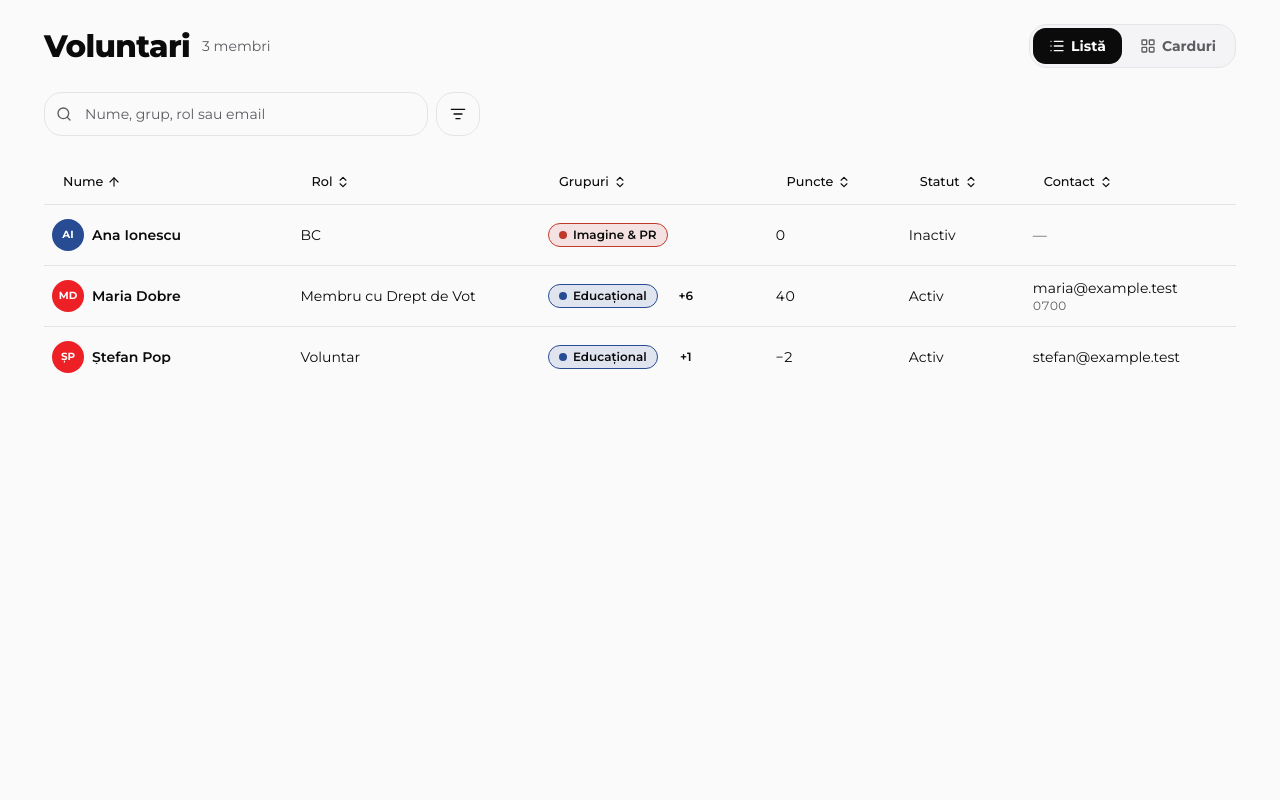
Member directory › filters by status and says so when nothing matches
Click the button named "Filtrează" at (458, 114), box x1=436 y1=92 x2=480 y2=136
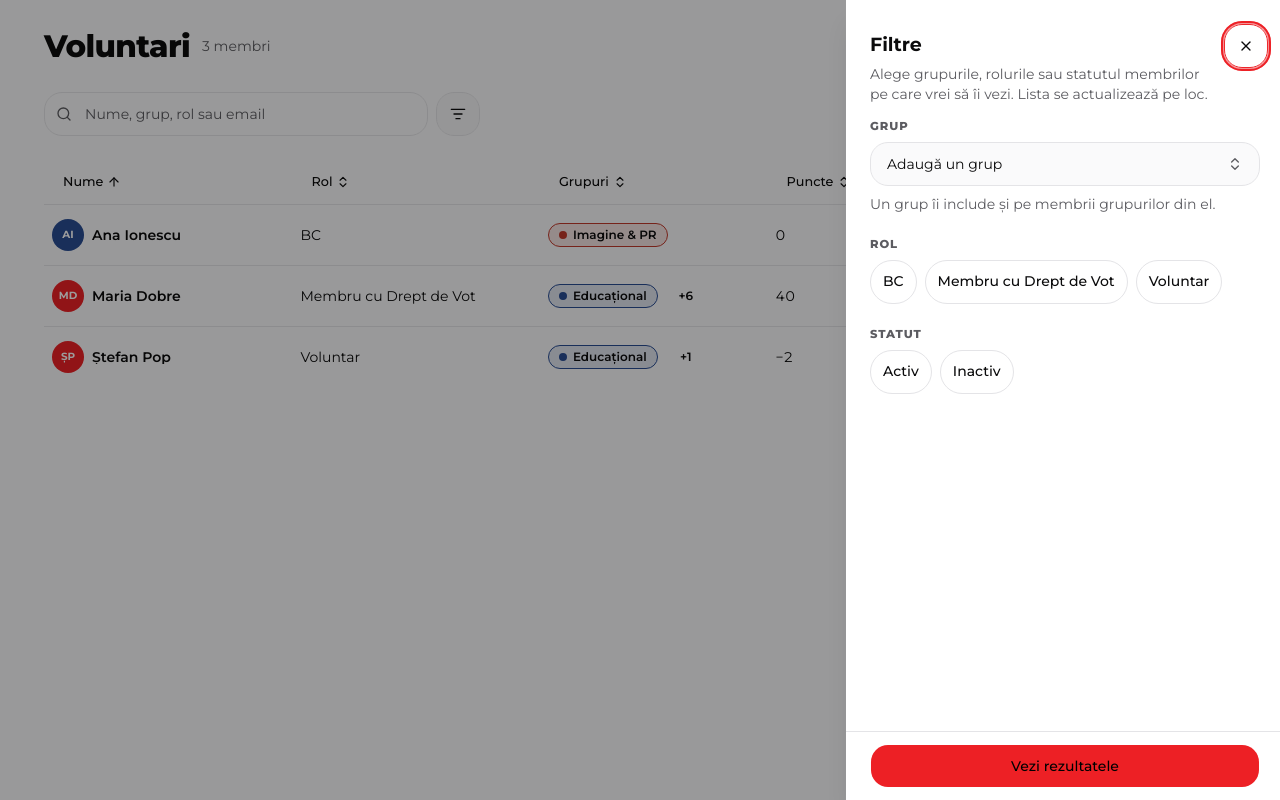
Click the button "Inactiv" at (963, 372), box x1=926 y1=350 x2=1000 y2=394
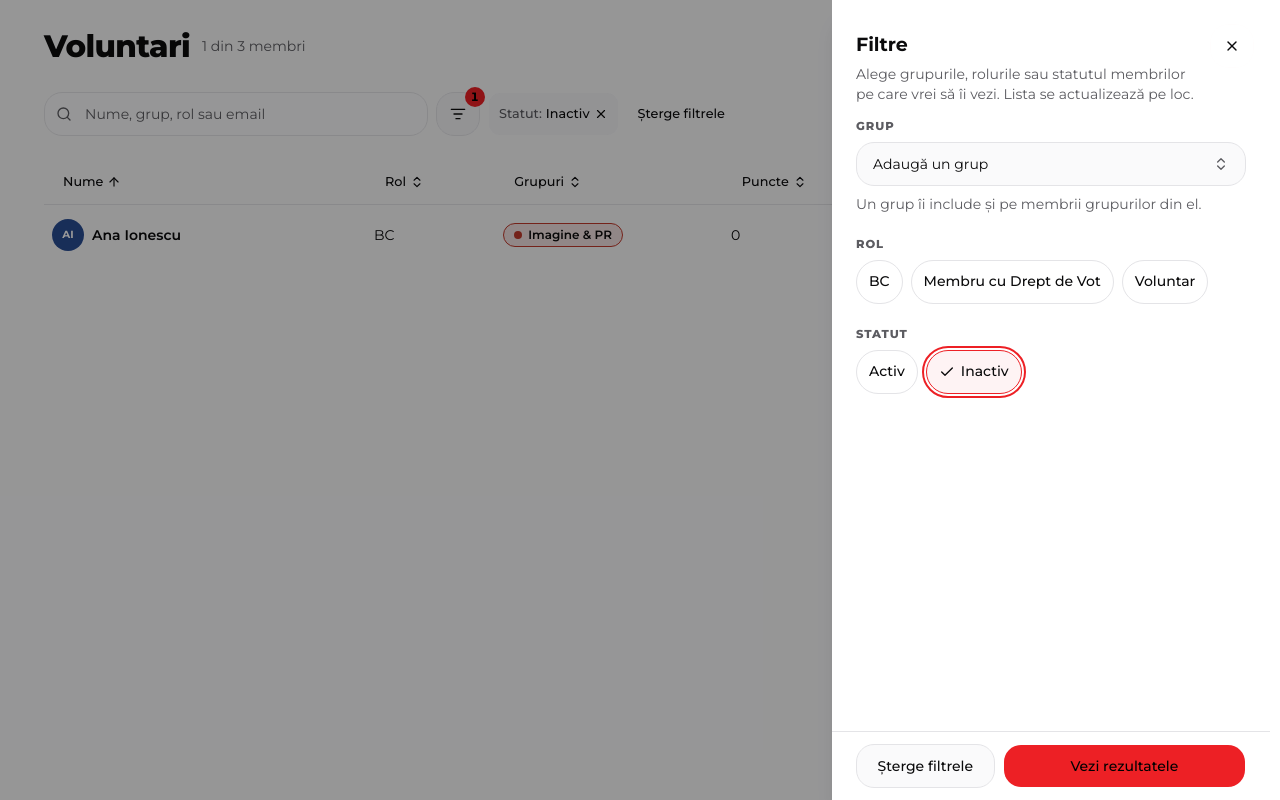
Click the button "Voluntar" at (1165, 282), box x1=1122 y1=260 x2=1208 y2=304
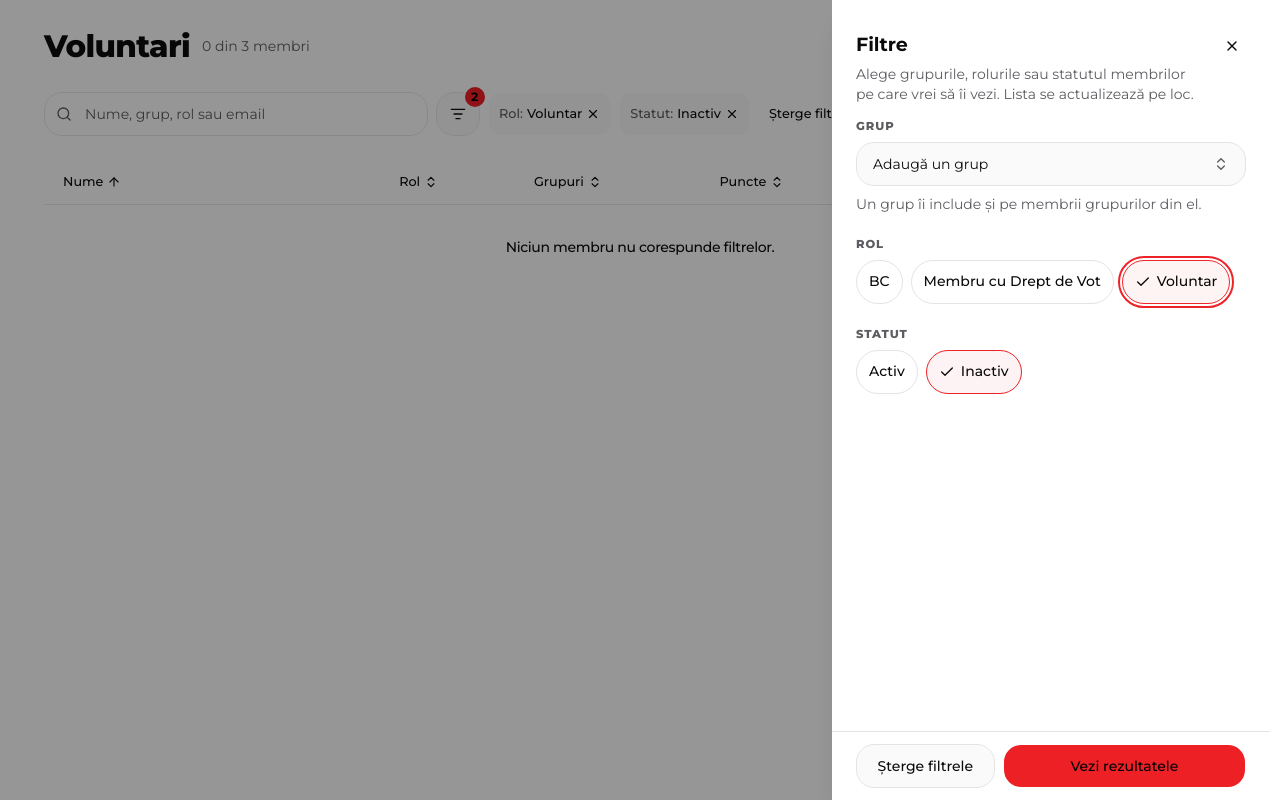
Now the text "Niciun membru nu corespunde filtrelor." is shown, box x1=506 y1=237 x2=774 y2=257
